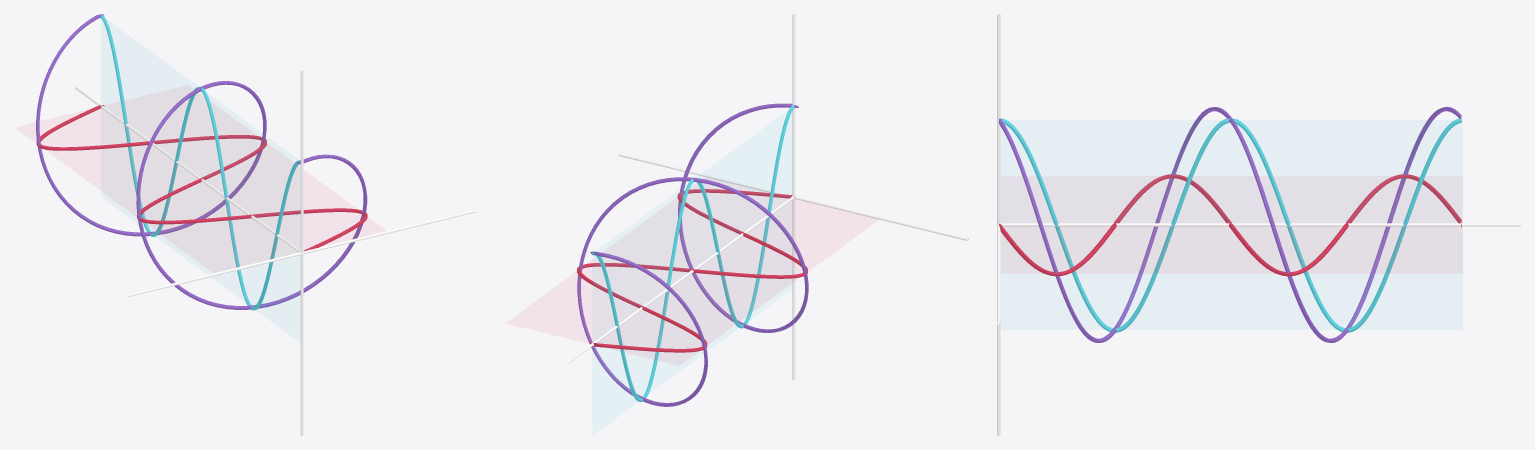
File: rhcp.glb
3 views of the same model, side by side, from view 1: azimuth 30°, elevation 25°; view 2: azimuth 150°, elevation 25°; view 3: azimuth 270°, elevation 25° (orthographic). The views are drawn at different scales.
Visible parts, largest first — view 1: rhcp_sum, rhcp_axes, rhcp_h, rhcp_v; view 2: rhcp_sum, rhcp_axes, rhcp_v, rhcp_h; view 3: rhcp_sum, rhcp_v, rhcp_axes, rhcp_h.
Part boxes in pixels (x1,y1,x2,y2): rhcp_sum: (36, 14, 367, 309); rhcp_axes: (75, 70, 476, 435); rhcp_h: (36, 105, 367, 251); rhcp_v: (100, 14, 300, 310); rhcp_sum: (577, 103, 808, 406); rhcp_axes: (566, 14, 968, 380); rhcp_v: (591, 105, 794, 402); rhcp_h: (577, 189, 807, 352); rhcp_sum: (999, 106, 1461, 342); rhcp_v: (1000, 118, 1461, 332); rhcp_axes: (997, 14, 1520, 435); rhcp_h: (999, 174, 1461, 276).
Bounding box in the file's own units: 4 × 4 × 4.51.
